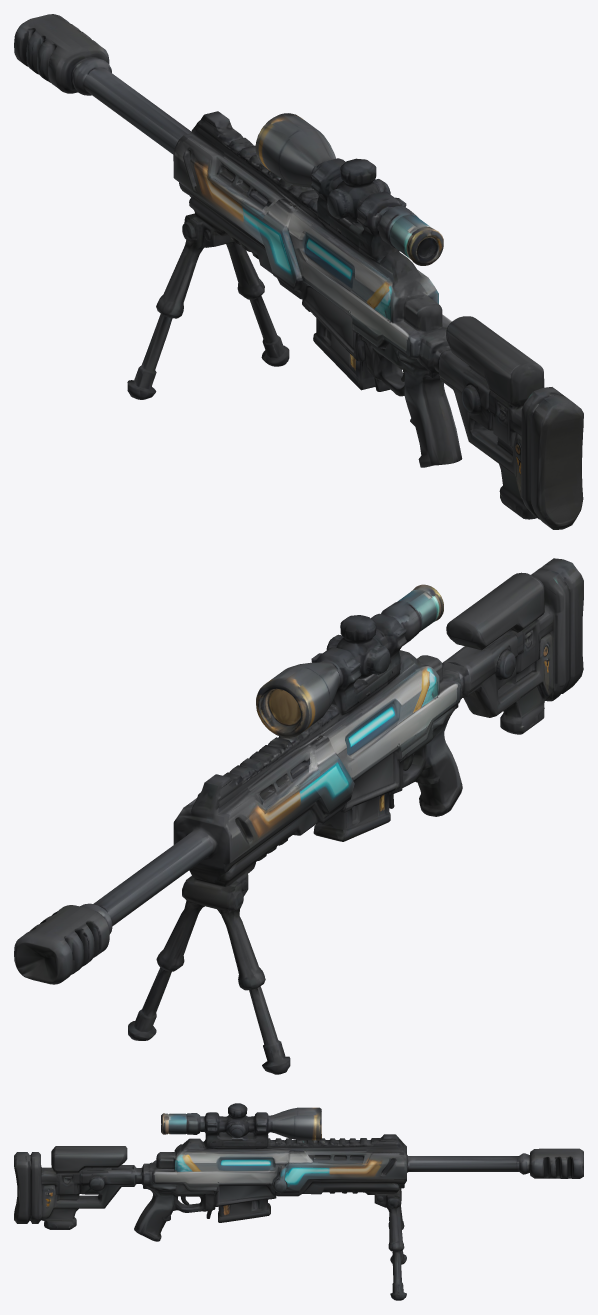
3 views of the same model, one above another, from view 1: azimuth 30°, elevation 25°; view 2: azimuth 150°, elevation 25°; view 3: azimuth 270°, elevation 25° (orthographic). The views are drawn at different scales.
Parts seen in each view (by area): view 1: gun_sniper; view 2: gun_sniper; view 3: gun_sniper.
Part boxes in pixels (box(x1,y1,x2,y2)): gun_sniper: box(14, 14, 583, 529); gun_sniper: box(14, 558, 583, 1074); gun_sniper: box(14, 1103, 583, 1300).
Bounding box in the file's own units: 0.2056 × 0.4013 × 1.19.
1 material, 1 textured.
